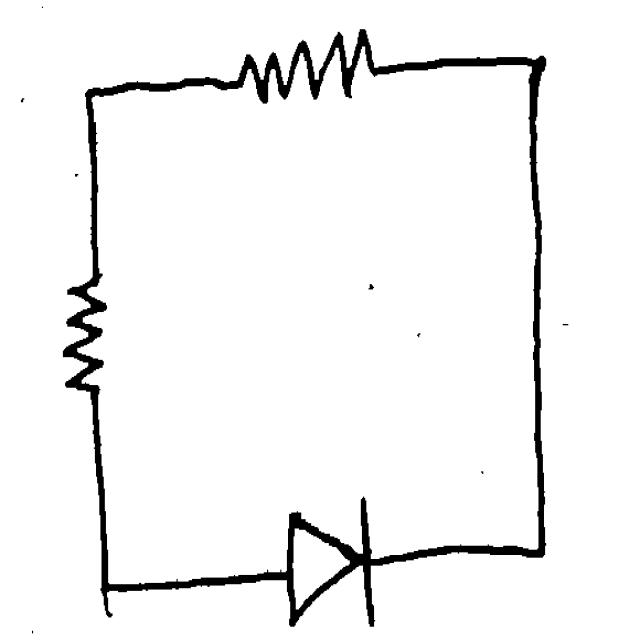diode: (272, 489, 391, 636)
resistor: (228, 26, 379, 115), (60, 256, 120, 420)
